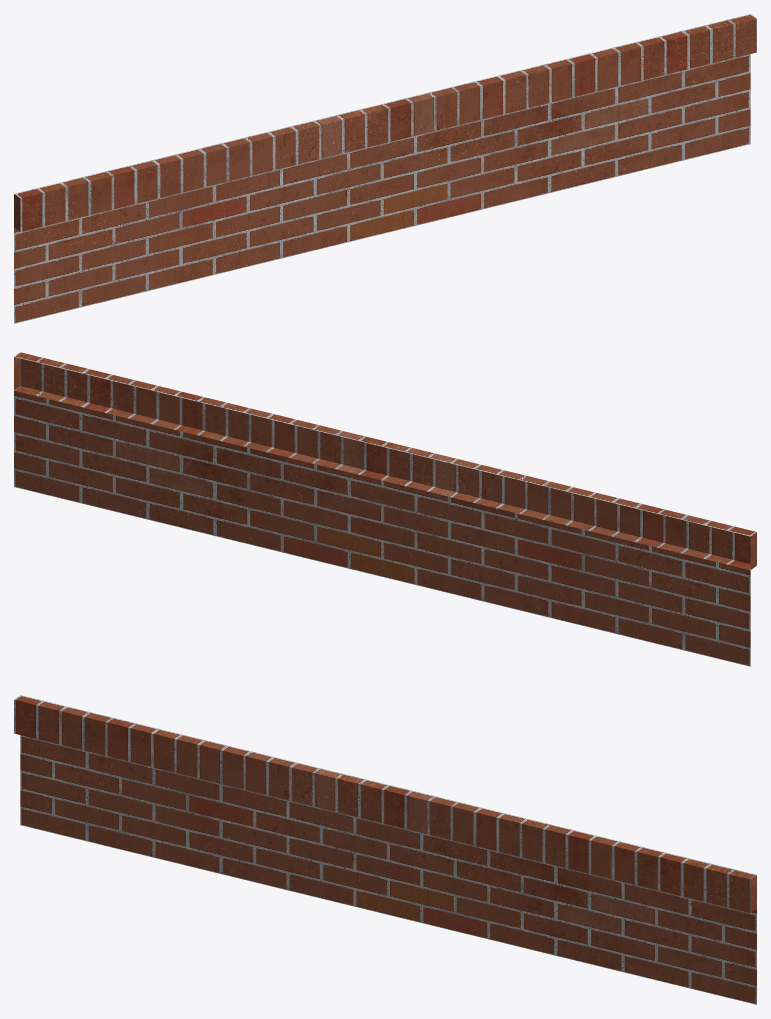
File: House_05_Wall_02.fbx
3 renders of one model, top to bottom at view 1: azimuth 30°, elevation 25°; view 2: azimuth 150°, elevation 25°; view 3: azimuth 330°, elevation 25°, orthographic.
Visible parts, largest first — view 1: House_05_Wall_02; view 2: House_05_Wall_02; view 3: House_05_Wall_02.
Boxes of the visible parts, box(x1,y1,x2,y2) form: House_05_Wall_02: box(14, 14, 756, 323); House_05_Wall_02: box(14, 352, 756, 666); House_05_Wall_02: box(14, 695, 756, 1004).
Size of the model in its own units: 400 by 67.48 by 6.03.
